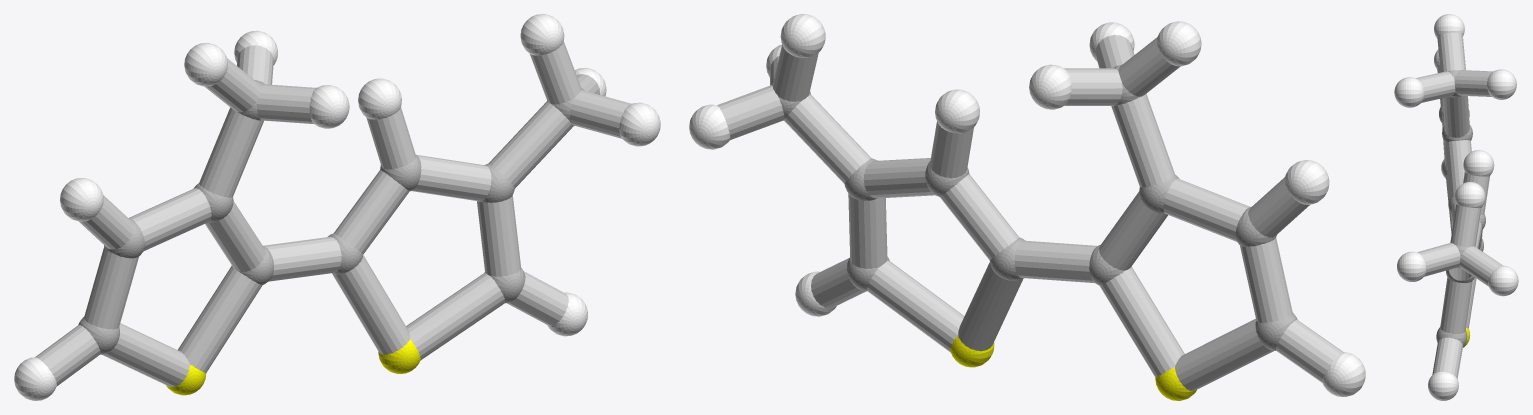
File: Methylthiophene_Phi_10_Theta_170_Methylthiophene.glb
3 views of the same model, side by side, from view 1: azimuth 30°, elevation 25°; view 2: azimuth 150°, elevation 25°; view 3: azimuth 270°, elevation 25° (orthographic). The views are drawn at different scales.
Parts seen in each view (by area): view 1: grp7965, grp3621, grp1, grp7241; view 2: grp7965, grp3621, grp1, grp7241; view 3: grp7965, grp3621, grp1.
Boxes of the visible parts, <box> form: grp7965: <box>35,41,631,386</box>; grp3621: <box>14,14,660,400</box>; grp1: <box>78,80,584,354</box>; grp7241: <box>166,339,420,395</box>; grp7965: <box>717,34,1343,390</box>; grp3621: <box>689,14,1365,396</box>; grp1: <box>771,64,1297,350</box>; grp7241: <box>950,335,1196,400</box>; grp7965: <box>1416,32,1502,378</box>; grp3621: <box>1394,14,1518,400</box>; grp1: <box>1436,70,1485,346</box>.
Size of the model in its own units: 9.76 by 5.69 by 2.41.
